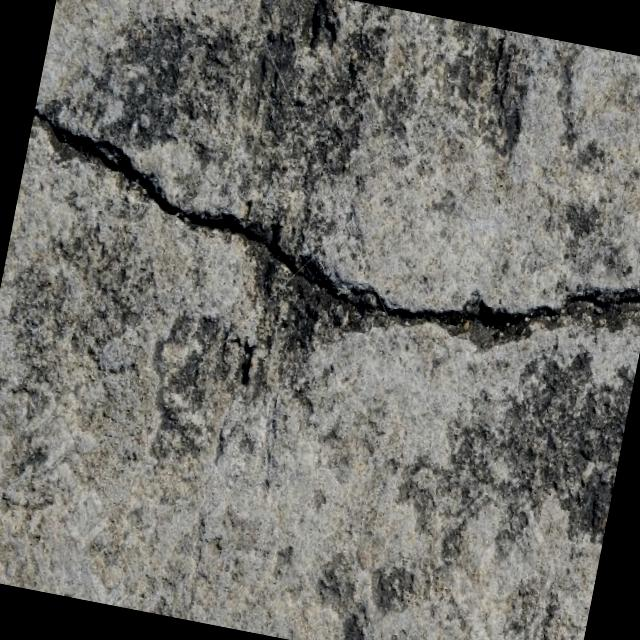crack: (10, 104, 640, 370)
spall: (230, 255, 374, 364)
